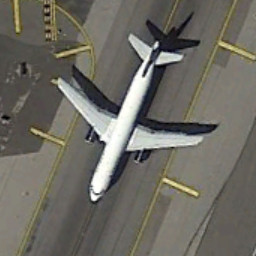Airplane: (53, 31, 207, 209)
